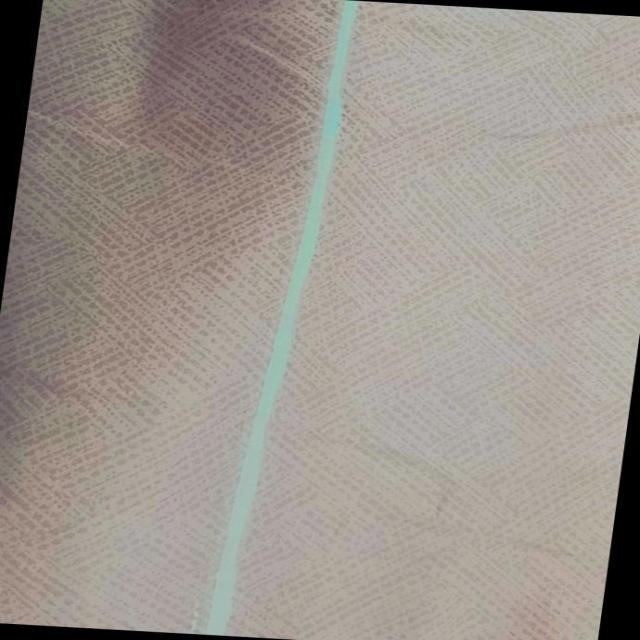selvet: (262, 0, 372, 370), (196, 362, 289, 638)
